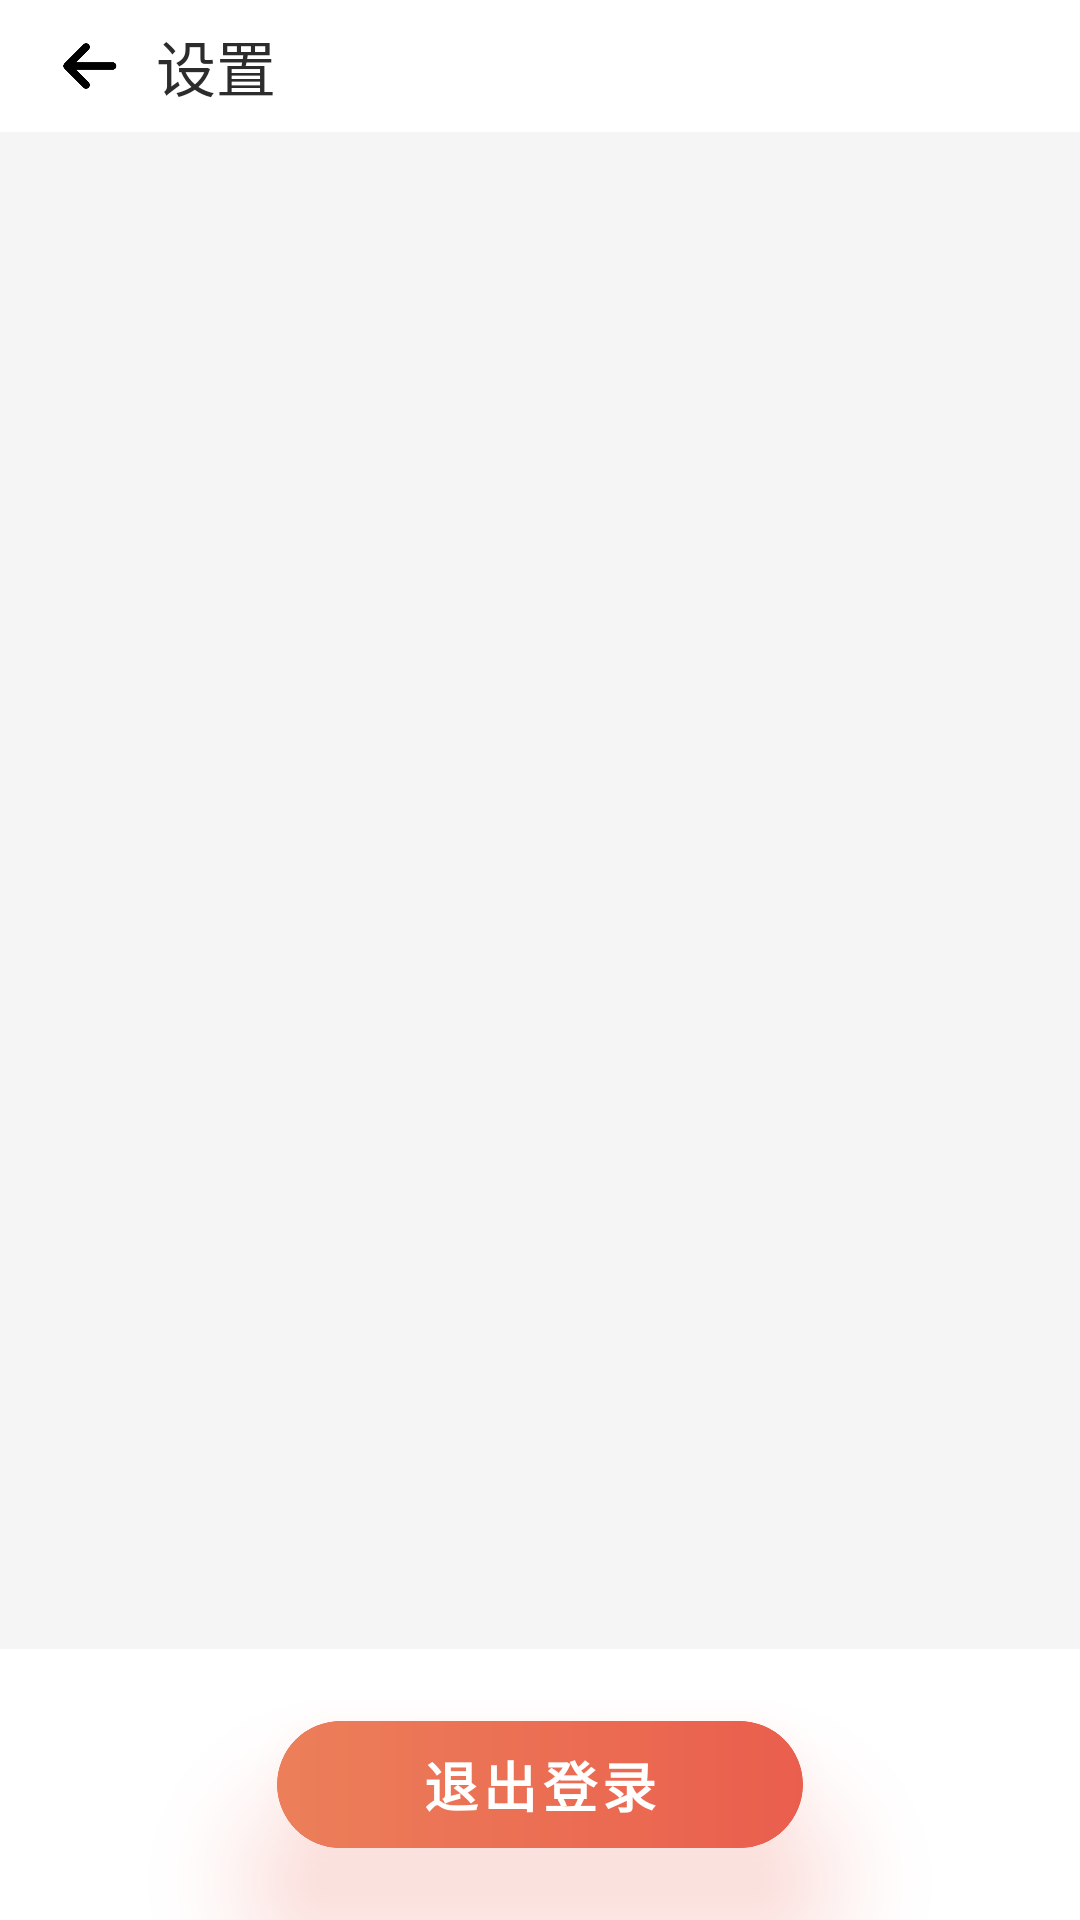

Screen size 1080×1920. Icon name, then its center in pixels as (x=x, y=y):
arrow left: (x=90, y=66)
